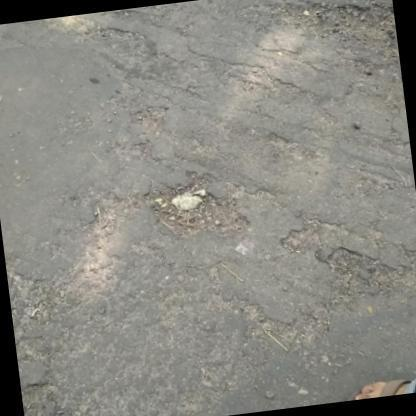pothole: (287, 222, 416, 317), (260, 0, 402, 50), (145, 179, 252, 239), (222, 296, 327, 346), (86, 192, 138, 247), (218, 55, 272, 97), (136, 102, 174, 136), (81, 23, 139, 45)
